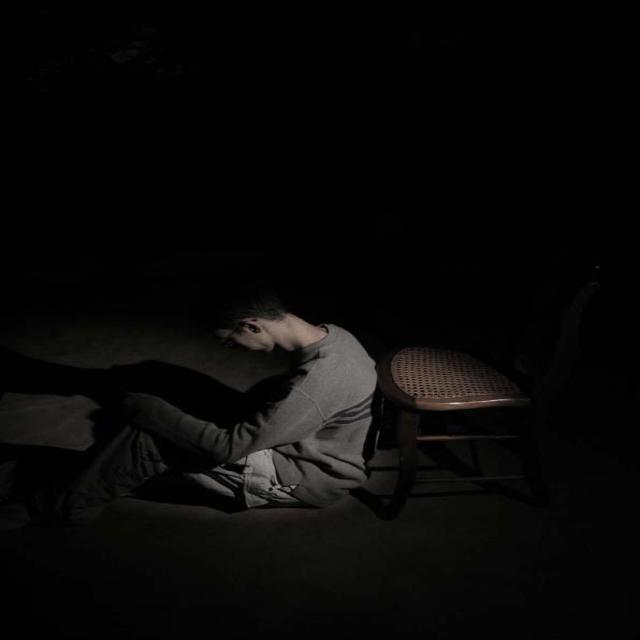People: (59, 289, 380, 560)
chair: (365, 274, 640, 511)
